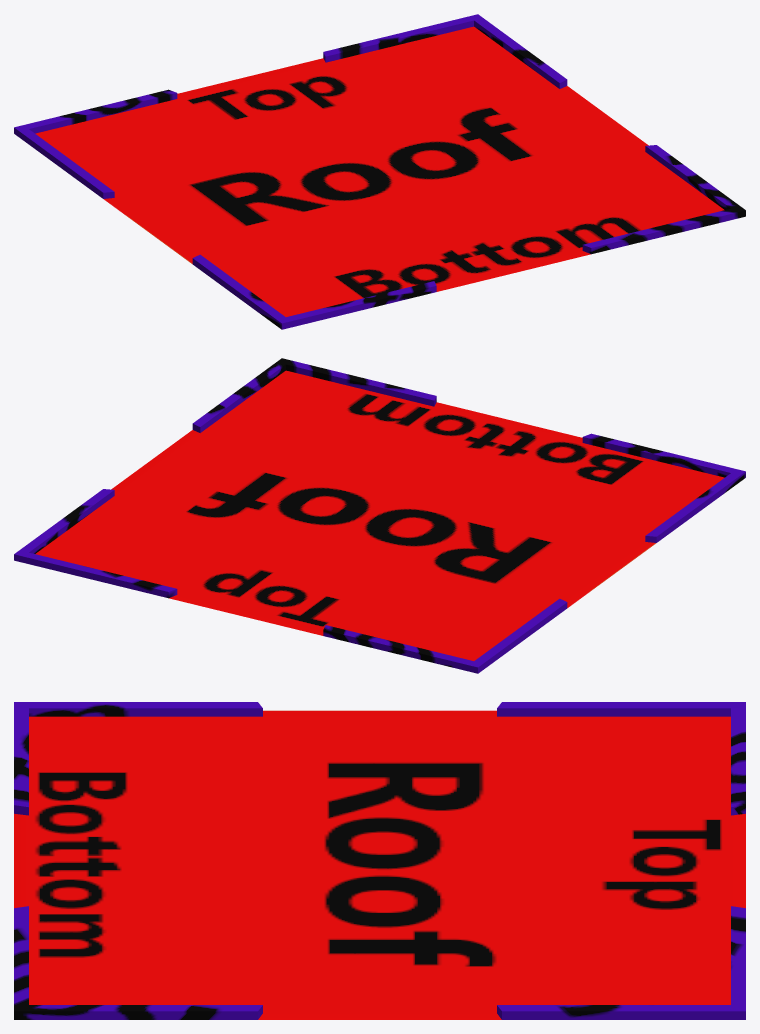
File: ENV_Roof_TwoXTwo_TypeOne.fbx
3 views of the same model, one above another, from view 1: azimuth 30°, elevation 25°; view 2: azimuth 150°, elevation 25°; view 3: azimuth 270°, elevation 25° (orthographic). The views are drawn at different scales.
Parts seen in each view (by area): view 1: TwoXTwoRoofOne; view 2: TwoXTwoRoofOne; view 3: TwoXTwoRoofOne.
Boxes of the visible parts, x1,y1,x2,y2 form: TwoXTwoRoofOne: [14, 14, 745, 329]; TwoXTwoRoofOne: [14, 358, 745, 673]; TwoXTwoRoofOne: [14, 702, 745, 1019].
Bounding box in the file's own units: 24 × 0.3114 × 24.
